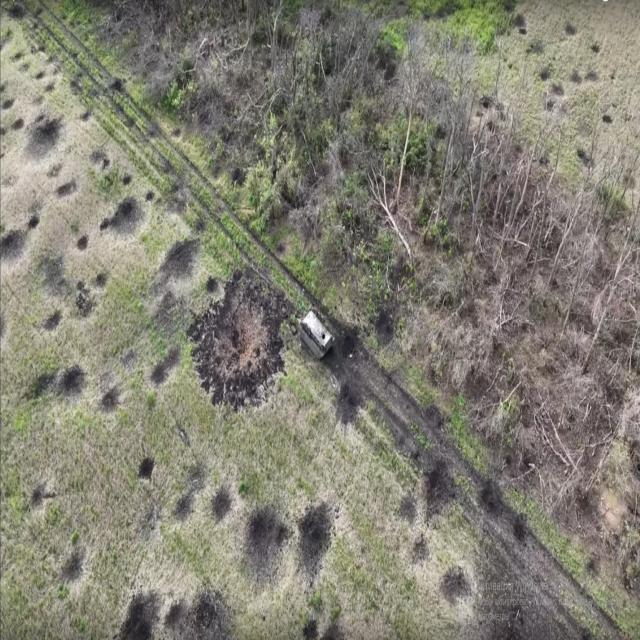APC: (297, 310, 337, 367)
